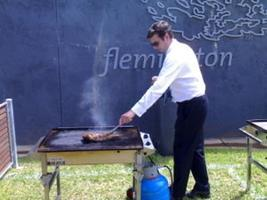person: (118, 22, 212, 200)
